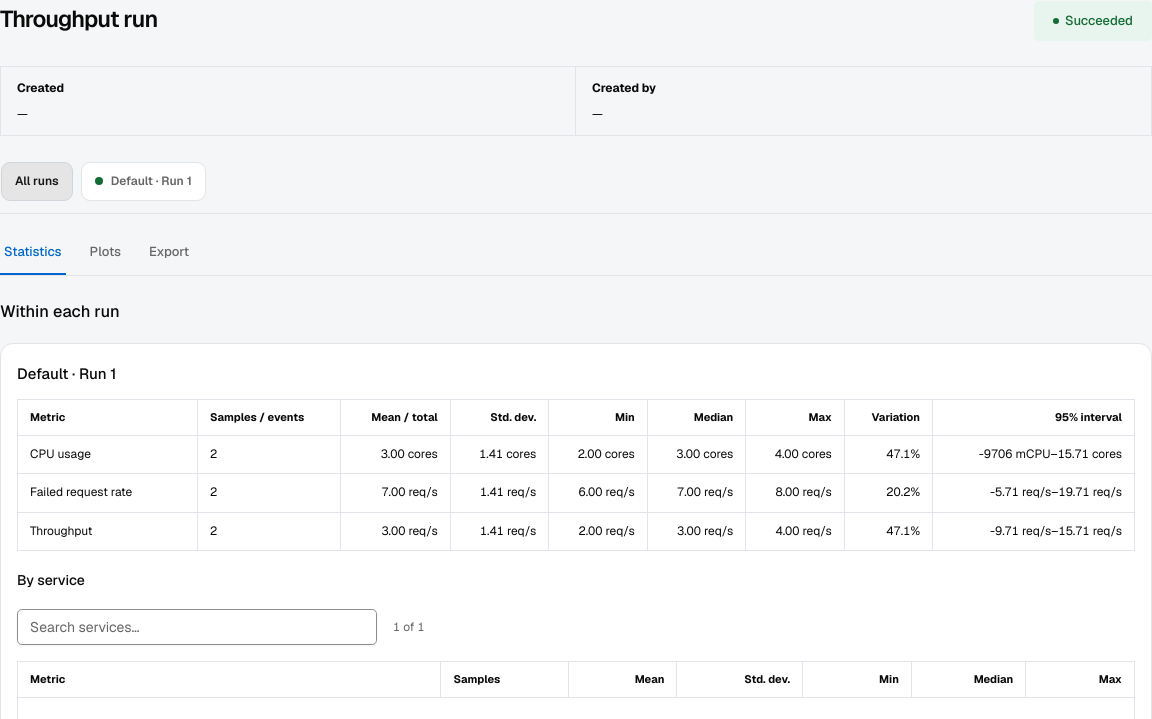
Test: focused experiment results › shows successful Throughput in statistics and response time service plots
Check: the text "Throughput" is shown, box [18,512,197,551]
Check: the text "Throughput" shows "3.00 req/s", box [381,523,438,539]
Click the button "Plots" at (105, 252), box [86,230,125,275]
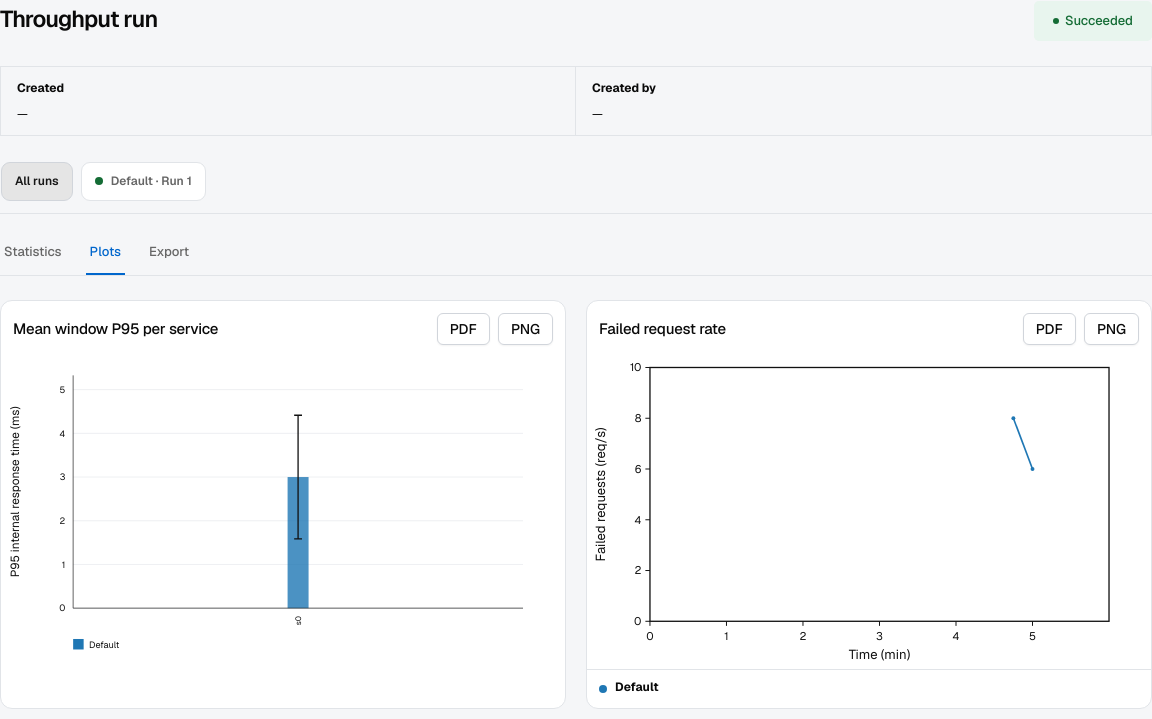
Check: the picture named "Mean window P95 per service: mean and standard deviation" does not show "± 1.4 ms", box [1,357,565,669]
Check: the heading "Mean window P95 per service" is shown, box [13,319,218,338]
Click the button "Statistics" at (33, 252), box [0,230,66,275]
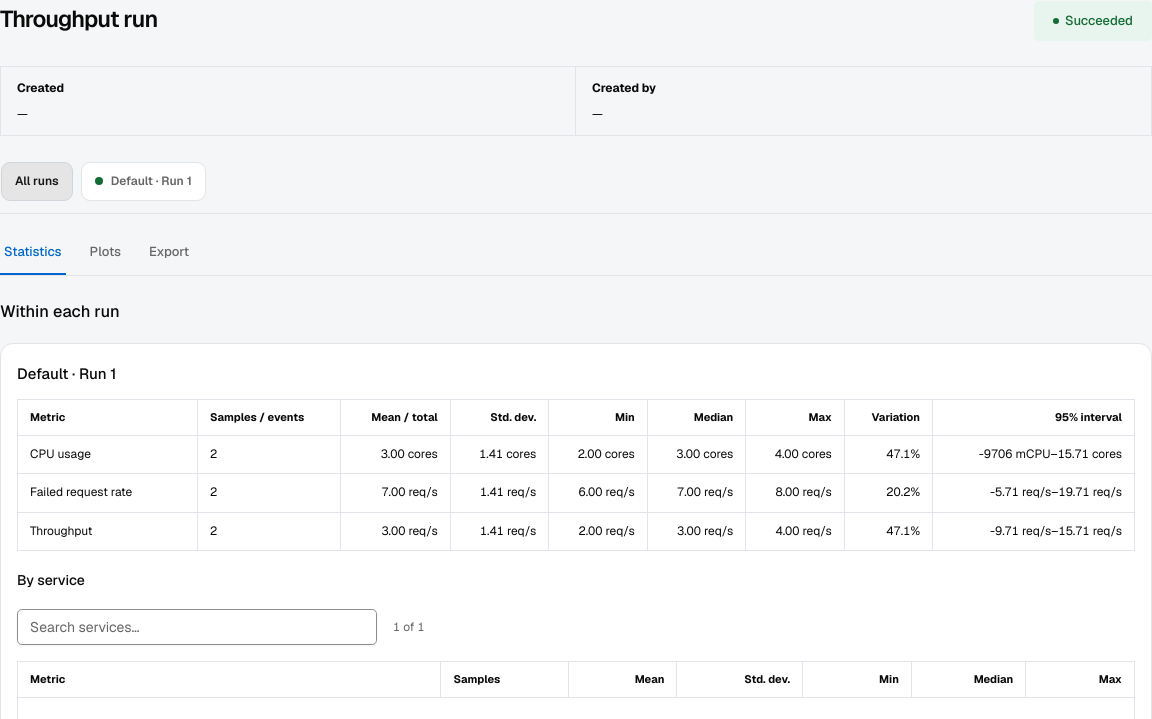
Check: the heading "Default · Run 1" is shown, box [17,364,116,383]
